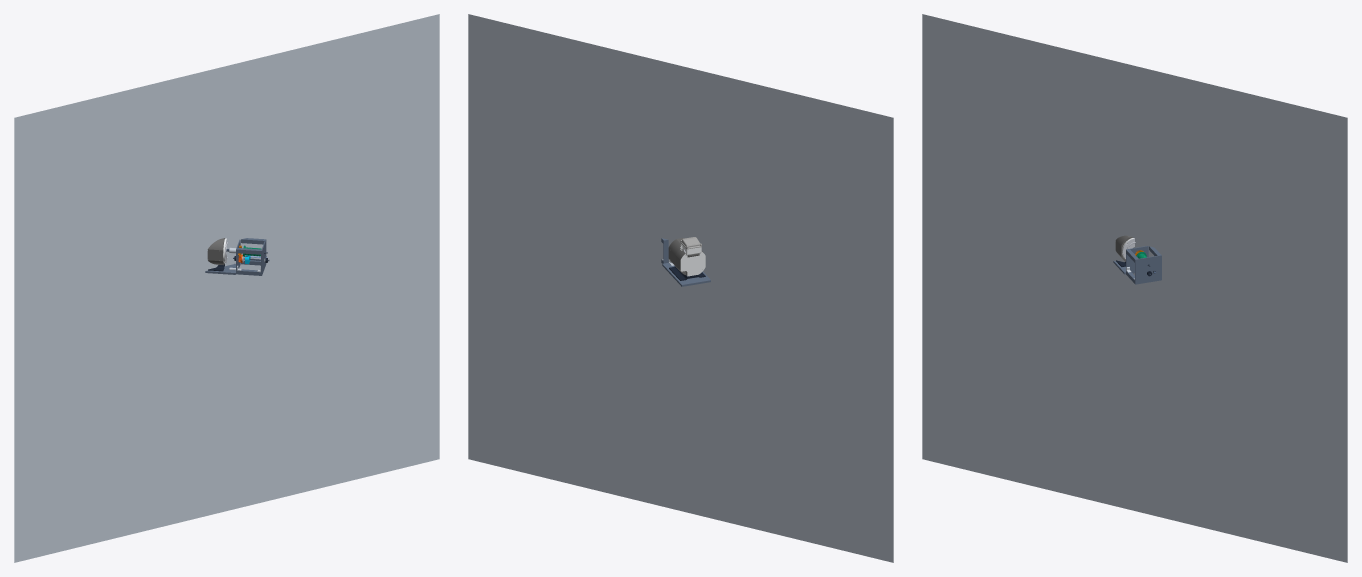
Rendered from drone-catch-split-compressed.glb.
3 views of the same model, side by side, from view 1: azimuth 30°, elevation 25°; view 2: azimuth 150°, elevation 25°; view 3: azimuth 330°, elevation 25° (orthographic).
Visible parts, largest first — view 1: drone-catch_split; view 2: drone-catch_split; view 3: drone-catch_split.
Boxes of the visible parts, x1,y1,x2,y2 form: drone-catch_split: (14, 14, 439, 562); drone-catch_split: (468, 14, 893, 562); drone-catch_split: (922, 14, 1347, 562).
Bounding box in the file's own units: 20 × 20 × 3.
